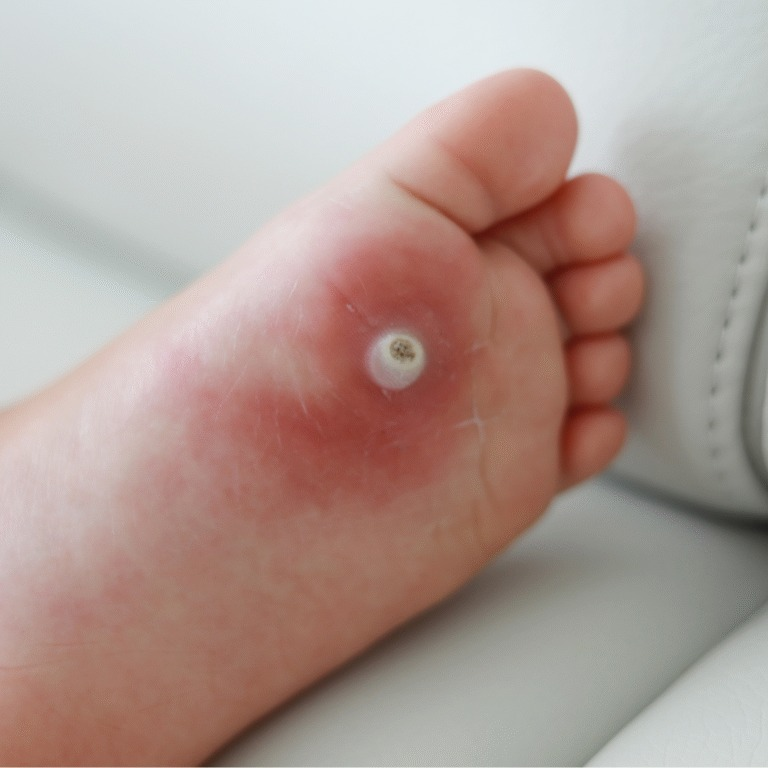Warts: (348, 309, 458, 416)
